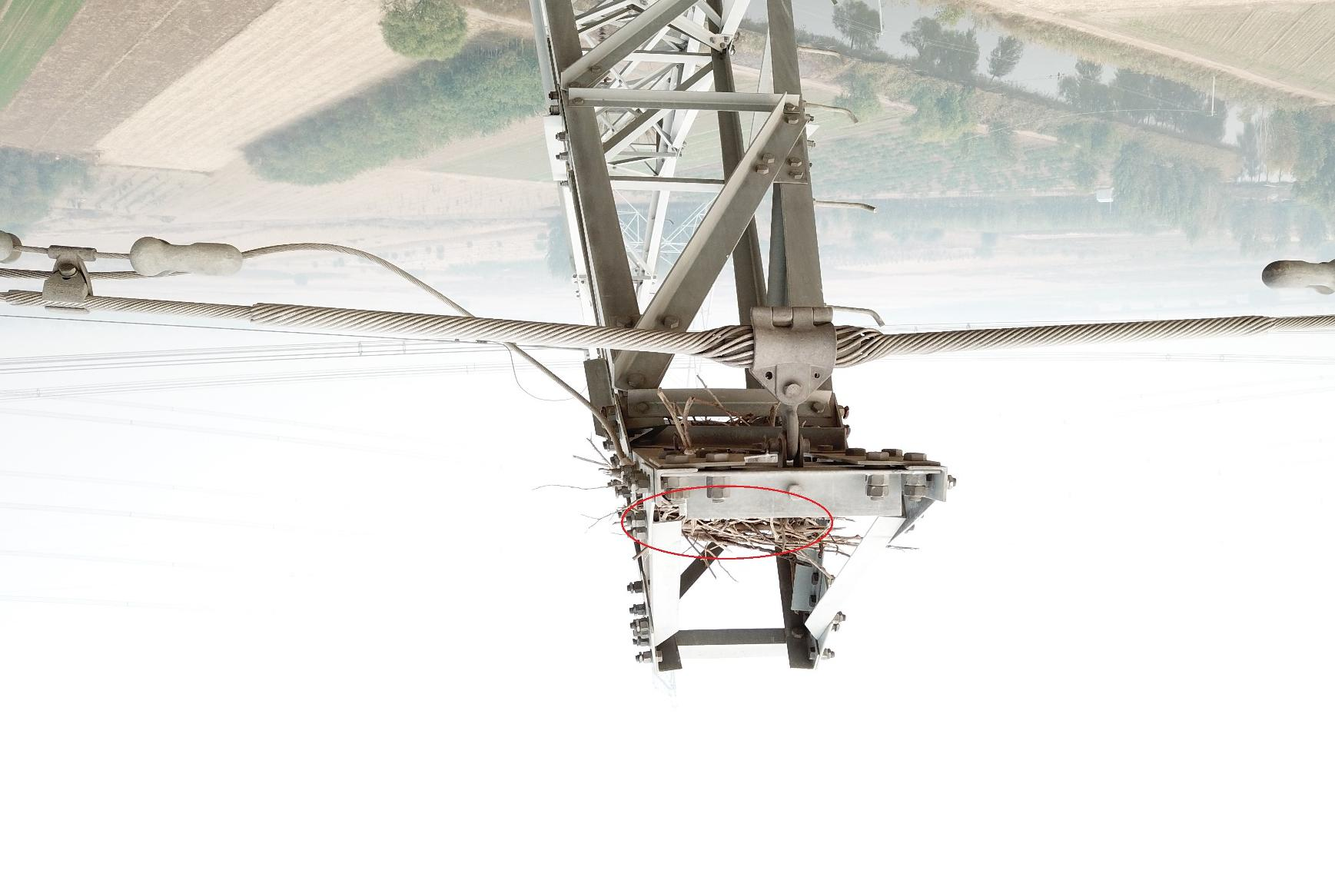damper: (1, 219, 255, 325)
nest: (673, 511, 860, 574)
